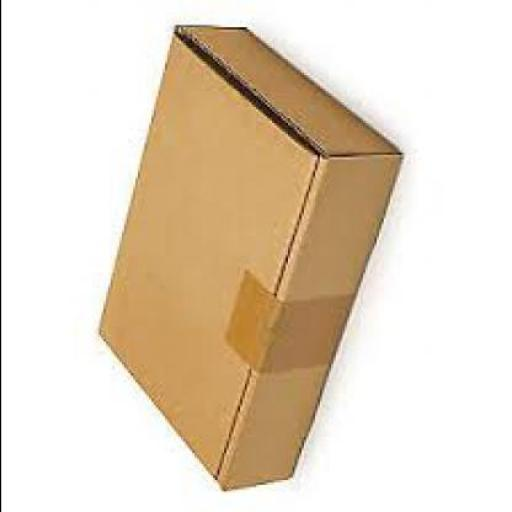cardboard: (93, 20, 401, 490)
